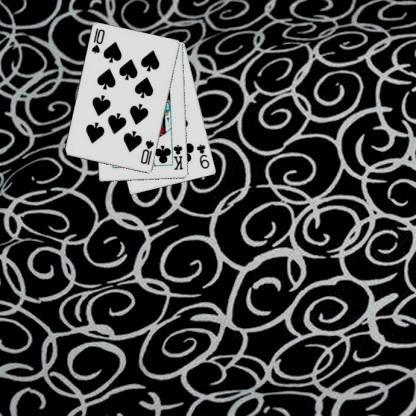10S: (138, 138, 156, 166), (89, 26, 106, 55)
9C: (194, 142, 211, 170)
KC: (168, 140, 184, 171)
